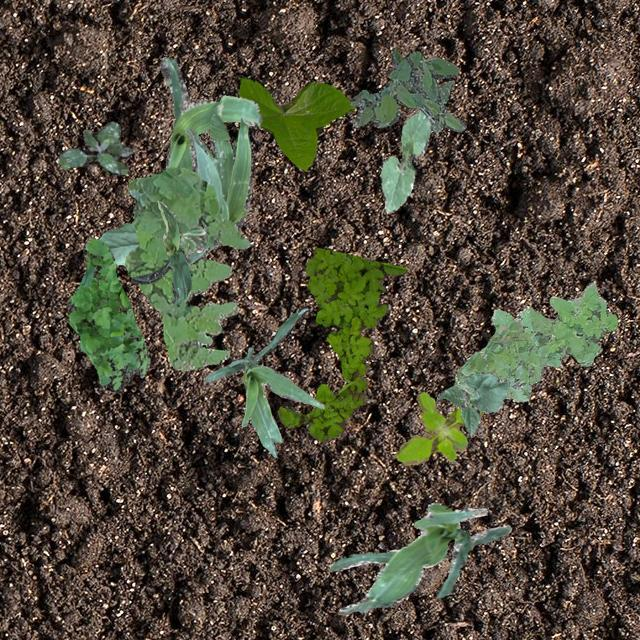crop: (328, 502, 511, 614), (204, 304, 324, 456), (158, 56, 262, 170), (238, 76, 354, 170), (184, 112, 252, 262), (130, 200, 190, 306), (378, 110, 429, 212), (99, 220, 204, 264), (436, 372, 508, 434)
weed: (123, 166, 250, 370), (276, 247, 406, 440), (452, 282, 616, 400), (65, 236, 148, 392), (348, 47, 466, 132), (394, 390, 466, 464), (56, 120, 130, 174)
